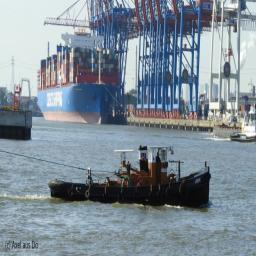tugboat: (46, 142, 215, 214)
